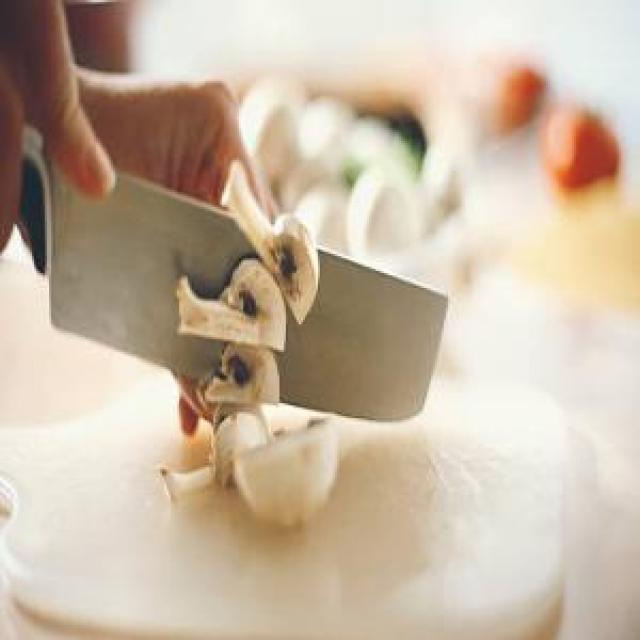knife: (15, 123, 449, 424)
